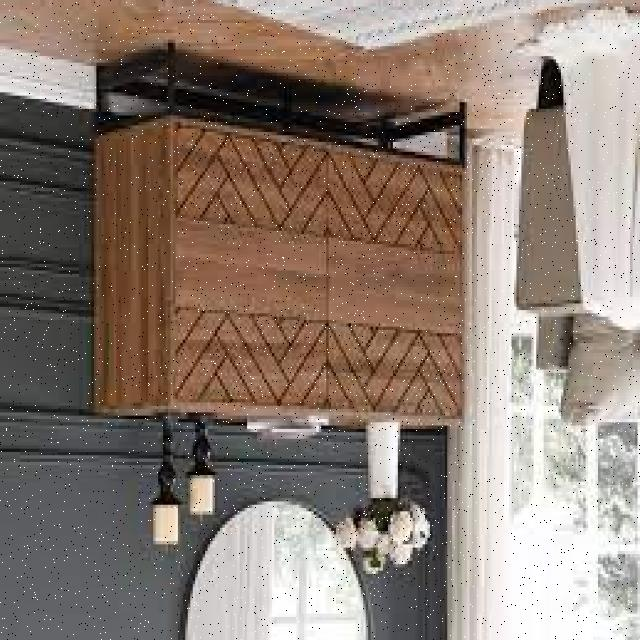mobile-phone: (88, 41, 468, 577)
